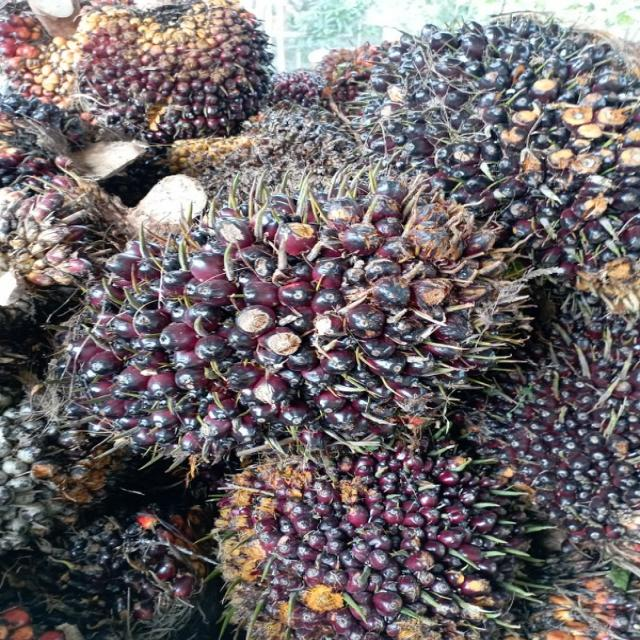fraksi 00: (346, 2, 640, 230)
fraksi 1: (91, 169, 514, 453), (210, 443, 509, 633), (61, 2, 271, 141)
